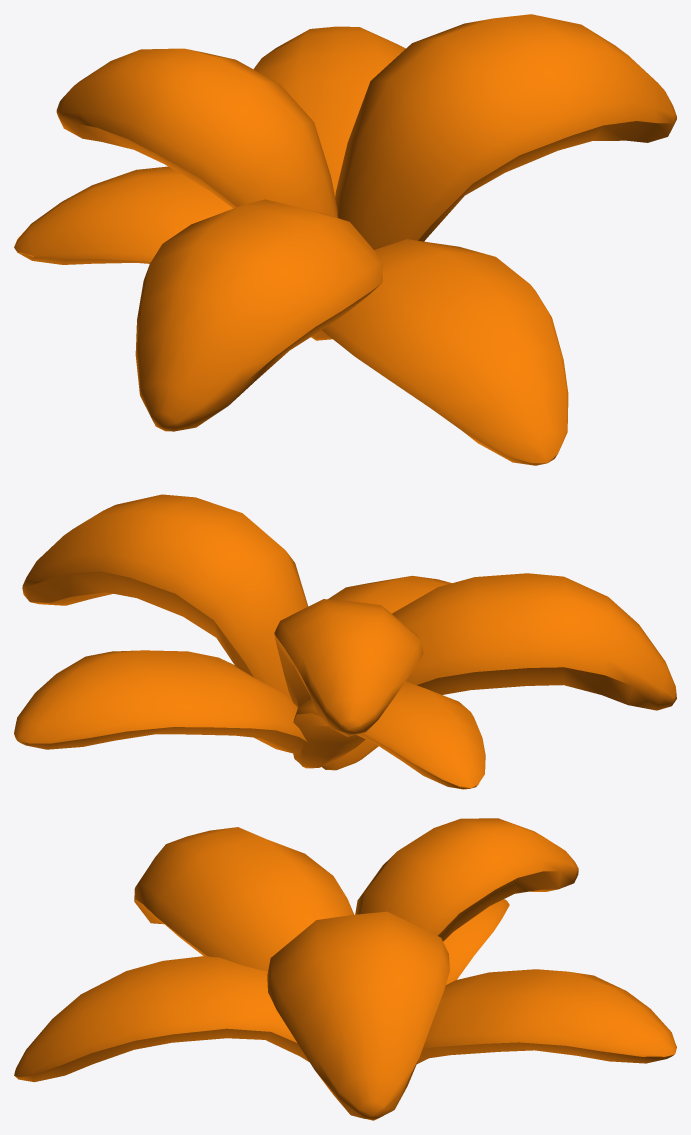
The model's file is Plant 1 (Orange) - Lvl 1.fbx.
The picture shows the model from 3 angles, top to bottom: view 1: azimuth 30°, elevation 25°; view 2: azimuth 150°, elevation 25°; view 3: azimuth 270°, elevation 25°; orthographic projection. The views are drawn at different scales.
Visible parts, largest first — view 1: plantA_forest 3; view 2: plantA_forest 3; view 3: plantA_forest 3.
Part boxes in pixels (<box>): plantA_forest 3: <box>14,14,676,465</box>; plantA_forest 3: <box>14,494,676,789</box>; plantA_forest 3: <box>14,818,676,1120</box>.
Size of the model in its own units: 43.02 by 44.53 by 16.82.
